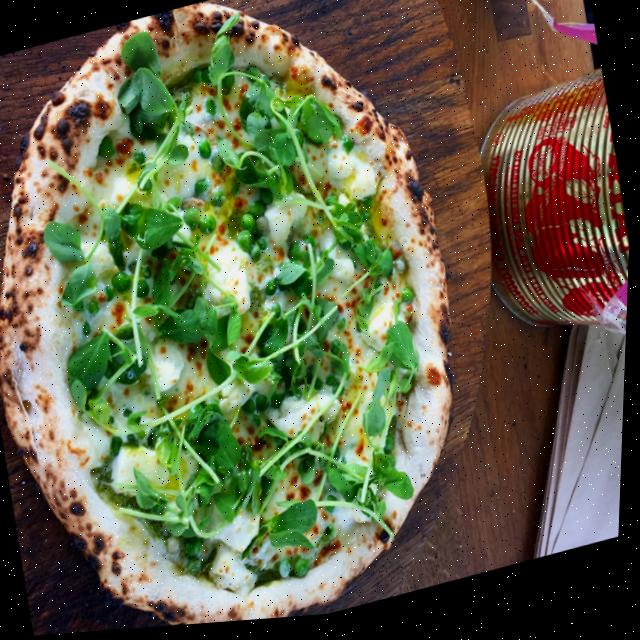basil: (208, 46, 338, 217), (211, 300, 350, 407), (156, 417, 270, 543), (116, 196, 215, 339), (300, 183, 399, 303), (344, 323, 433, 452), (60, 319, 164, 423), (110, 61, 192, 187), (39, 208, 123, 317), (255, 404, 349, 500), (322, 428, 416, 522), (265, 499, 327, 561)
pizza: (0, 0, 513, 640)
